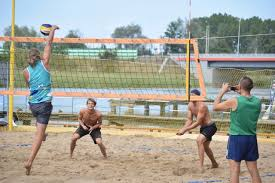ball: (39, 23, 53, 36)
